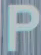Parking: (7, 2, 37, 54)
